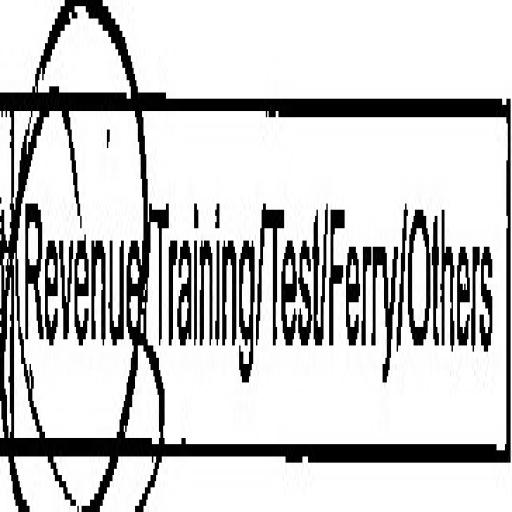check: (11, 0, 151, 512)
